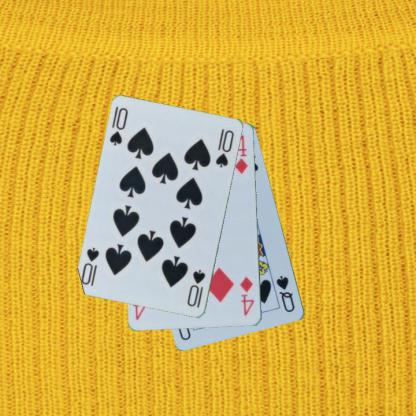10s: (185, 267, 207, 310), (107, 105, 129, 147)
4d: (237, 274, 256, 316)
Qs: (274, 272, 296, 314)
